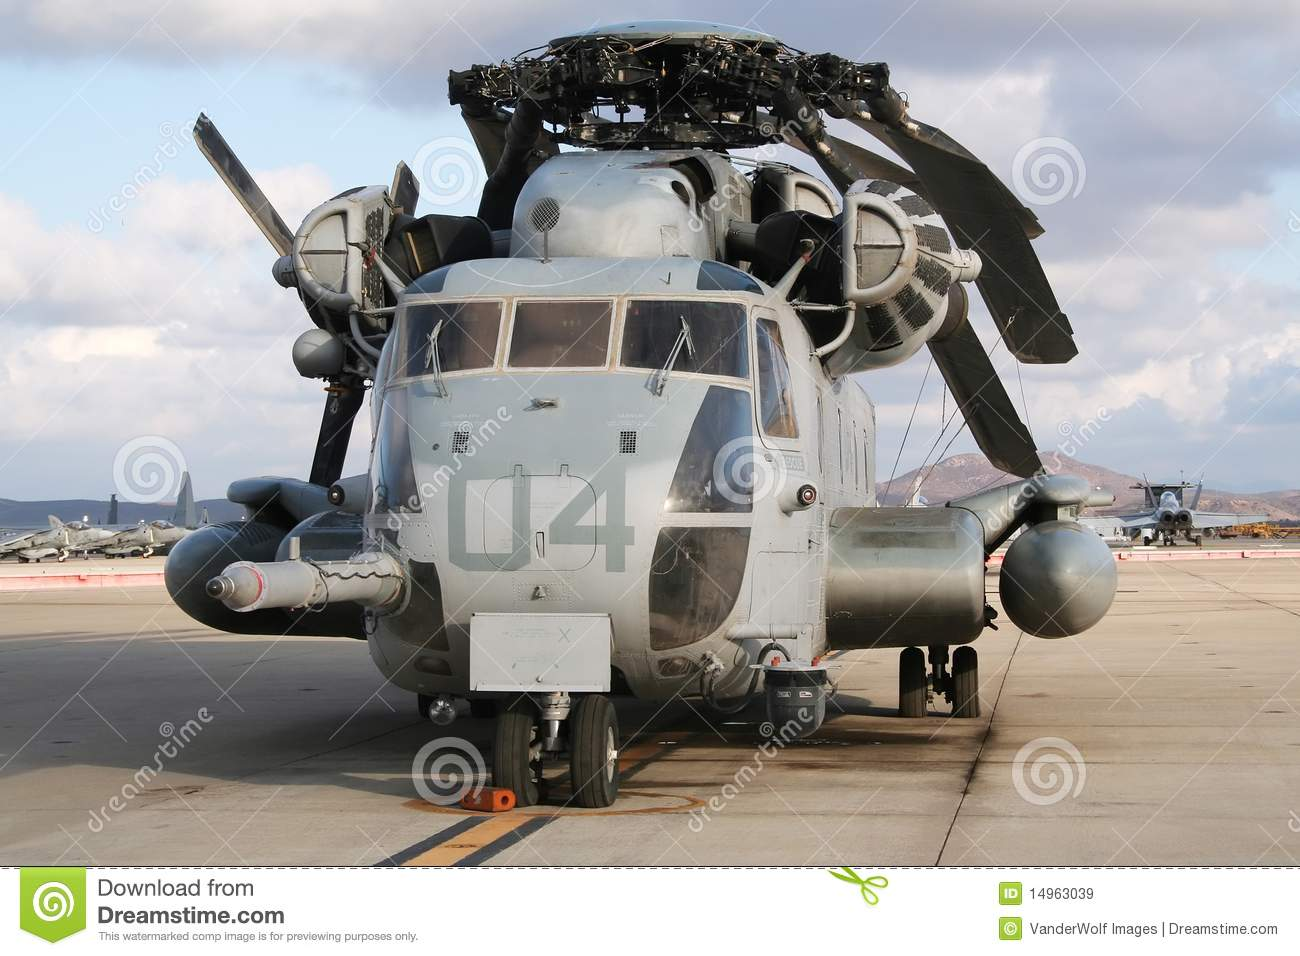MilitaryHelicopter: (178, 42, 1116, 783)
